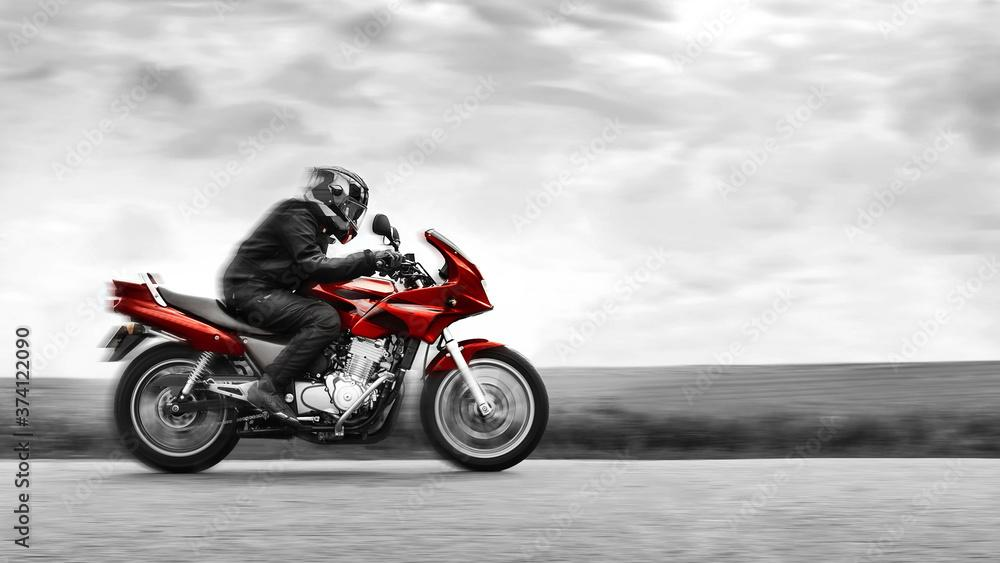helmet: (303, 165, 370, 245)
